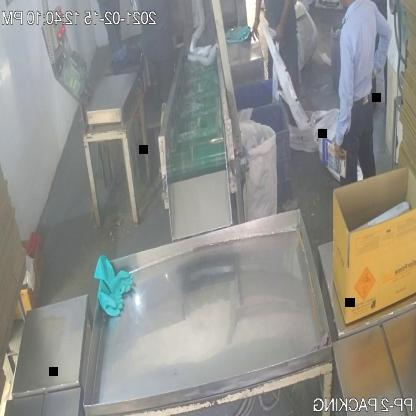no_glove: (330, 23, 358, 160), (272, 0, 294, 45), (247, 0, 265, 43)
